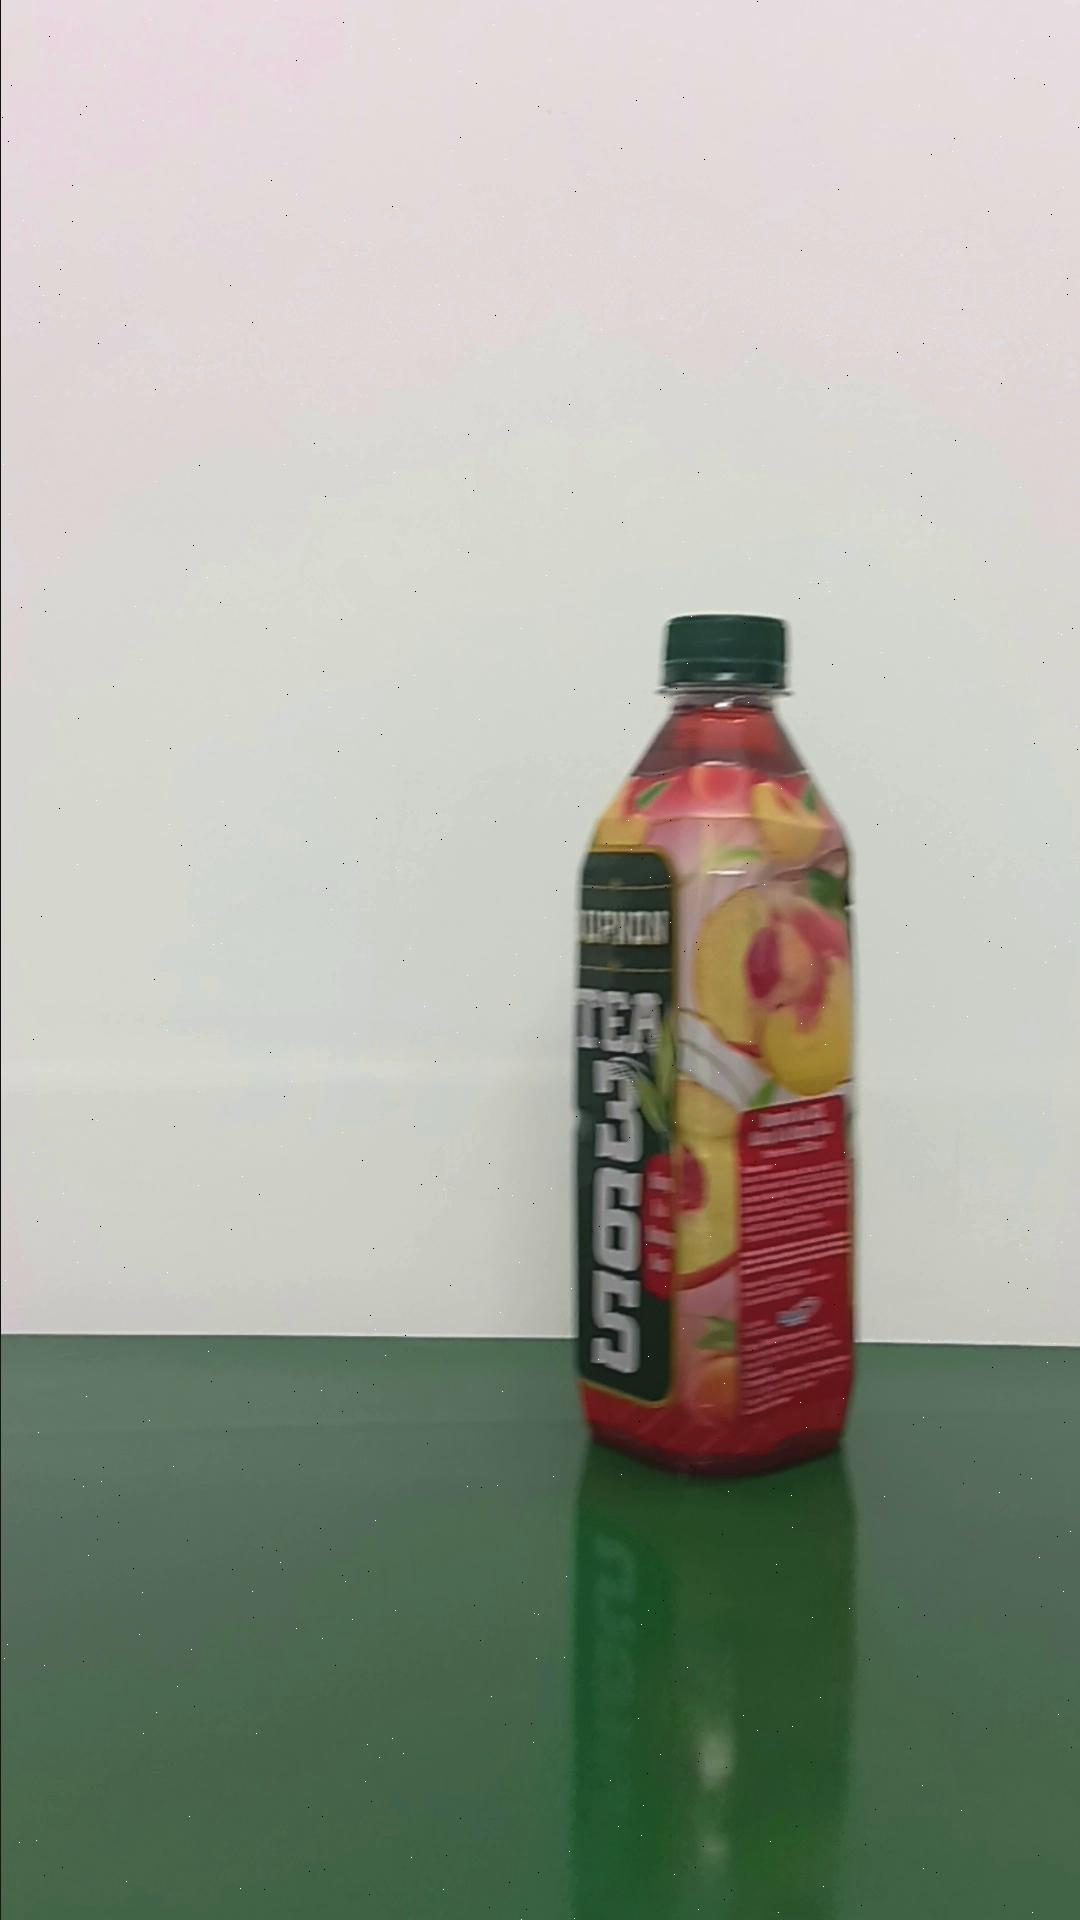loi meo sp: (568, 611, 858, 1477)
